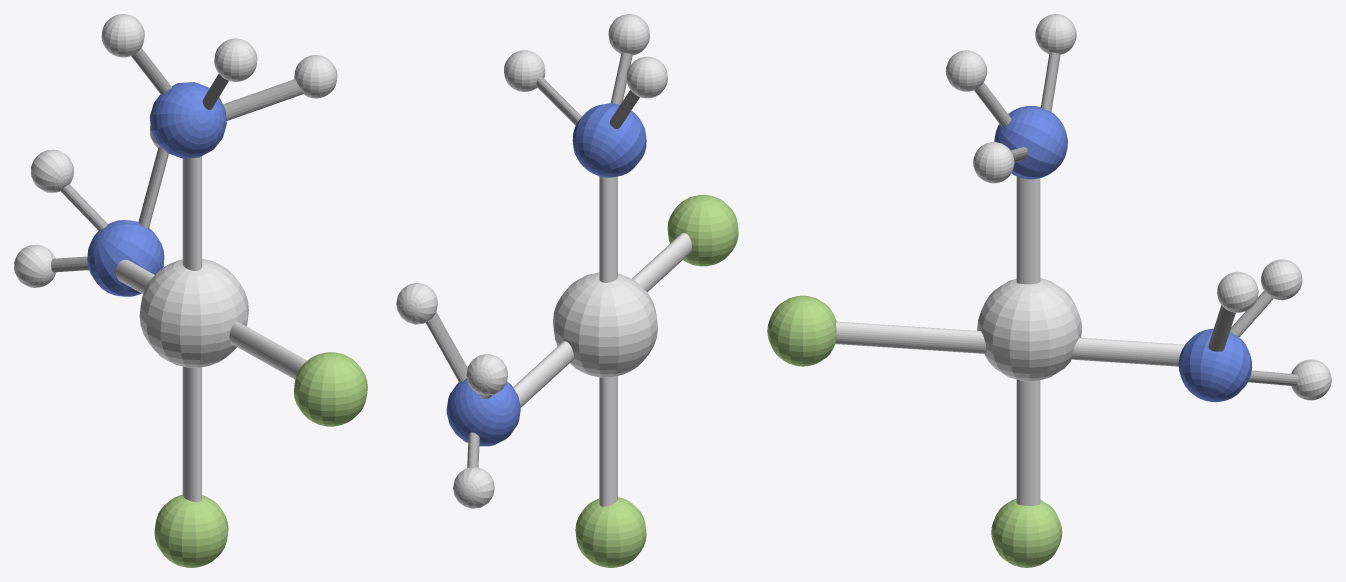
The model's file is cisplatin.glb.
3 renders of one model, left to right at view 1: azimuth 30°, elevation 25°; view 2: azimuth 150°, elevation 25°; view 3: azimuth 270°, elevation 25°, orthographic. The views are drawn at different scales.
Parts seen in each view (by area): view 1: ShapeSphere.018, Cylinder, ShapeSphere.056, ShapeSphere.054, ShapeSphere.055, ShapeSphere.060, Cylinder.001, ShapeSphere.057, ShapeSphere.058, ShapeSphere.061, ShapeSphere.059, ShapeSphere.062 (+6 smaller); view 2: ShapeSphere.018, Cylinder, ShapeSphere.056, ShapeSphere.055, ShapeSphere.054, ShapeSphere.060, Cylinder.001, ShapeSphere.058, ShapeSphere.061, ShapeSphere.063, ShapeSphere.062, ShapeSphere.057 (+5 smaller); view 3: ShapeSphere.018, Cylinder.001, Cylinder, ShapeSphere.054, ShapeSphere.060, ShapeSphere.055, ShapeSphere.056, ShapeSphere.059, ShapeSphere.057, ShapeSphere.063, ShapeSphere.061, ShapeSphere.058 (+3 smaller).
Part boxes in pixels (box(x1,y1,x2,y2)): ShapeSphere.018: box(139, 258, 248, 367); Cylinder: box(182, 156, 201, 502); ShapeSphere.056: box(149, 82, 226, 158); ShapeSphere.054: box(294, 352, 367, 426); ShapeSphere.055: box(154, 494, 228, 567); ShapeSphere.060: box(87, 220, 164, 296); Cylinder.001: box(115, 260, 306, 379); ShapeSphere.057: box(214, 38, 257, 81); ShapeSphere.058: box(101, 14, 144, 57); ShapeSphere.061: box(31, 149, 73, 192); ShapeSphere.059: box(294, 55, 337, 98); ShapeSphere.062: box(14, 244, 56, 287); ShapeSphere.018: box(553, 272, 657, 377); Cylinder: box(599, 176, 617, 506); ShapeSphere.056: box(572, 103, 646, 177); ShapeSphere.055: box(575, 497, 646, 567); ShapeSphere.054: box(667, 194, 738, 266); ShapeSphere.060: box(446, 378, 520, 446); Cylinder.001: box(513, 233, 691, 407); ShapeSphere.058: box(626, 56, 667, 98); ShapeSphere.061: box(466, 354, 508, 395); ShapeSphere.063: box(396, 283, 437, 324); ShapeSphere.062: box(453, 467, 494, 508); ShapeSphere.057: box(608, 14, 649, 55); ShapeSphere.018: box(977, 278, 1081, 381); Cylinder.001: box(835, 321, 1184, 366); Cylinder: box(1016, 176, 1040, 505); ShapeSphere.054: box(767, 295, 836, 366); ShapeSphere.060: box(1178, 328, 1252, 402); ShapeSphere.055: box(991, 498, 1062, 567); ShapeSphere.056: box(994, 106, 1067, 179); ShapeSphere.059: box(973, 142, 1014, 183); ShapeSphere.057: box(945, 50, 987, 91); ShapeSphere.063: box(1217, 271, 1258, 312); ShapeSphere.061: box(1261, 259, 1302, 300); ShapeSphere.058: box(1035, 14, 1076, 54).
Size of the model in its own units: 7.72 by 20.53 by 20.03.
